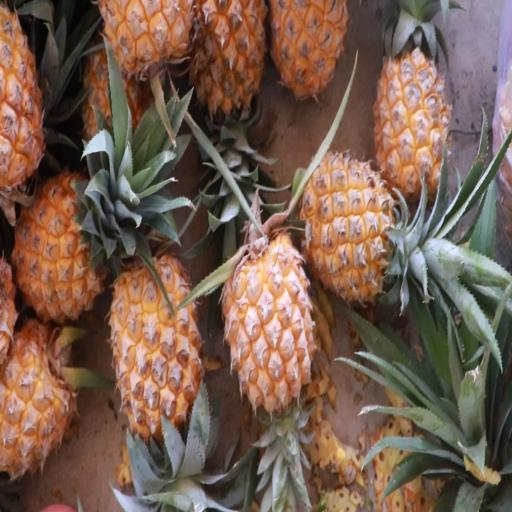Pineapple - v8 v1: (104, 246, 205, 448), (218, 230, 318, 422), (298, 149, 411, 313), (372, 0, 456, 211), (4, 170, 99, 338), (1, 312, 80, 487), (187, 0, 263, 128), (96, 0, 197, 95), (268, 2, 354, 107)
